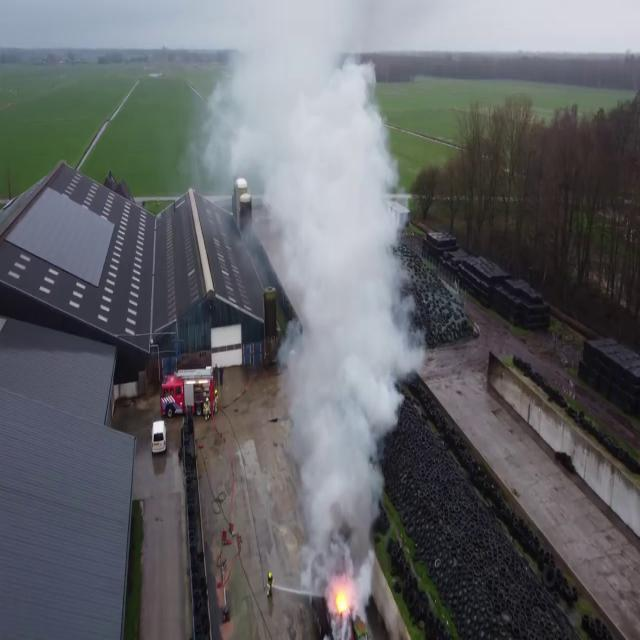Fire: (329, 570, 355, 624)
Smoke: (207, 0, 435, 604)
